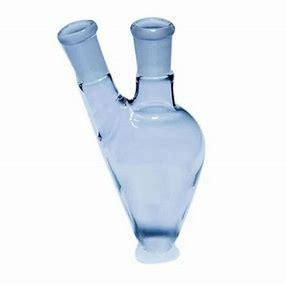Pear shaped flask: (50, 19, 208, 255)
